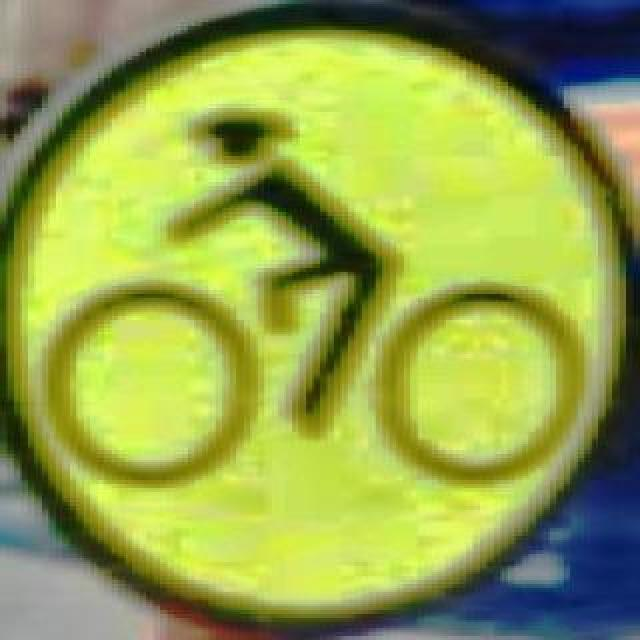bike lane: (6, 0, 632, 624)
